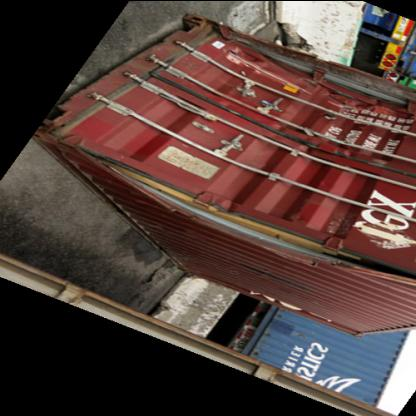Damage: (134, 179, 350, 281)
